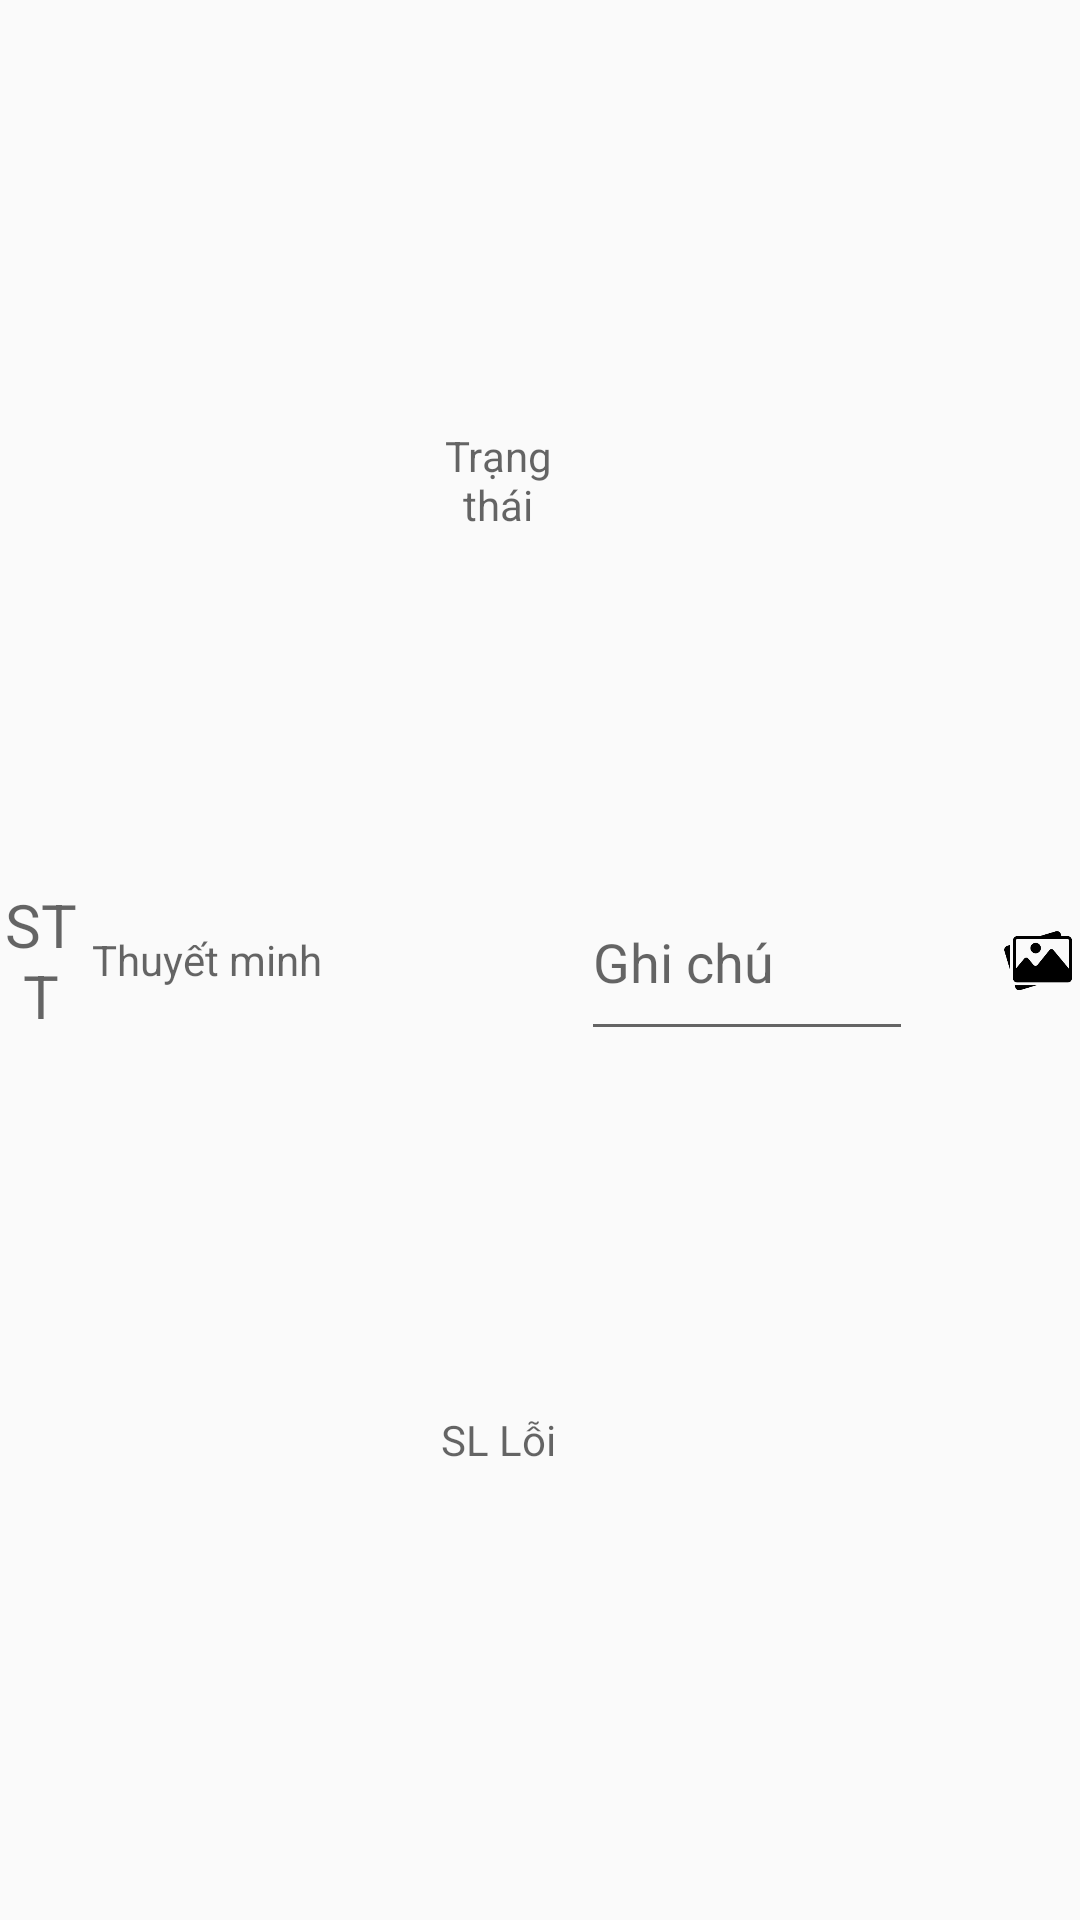

Where to tap for icons on this 1080 × 1920 app screen, as point (x, y):
gallery: point (1038, 960)
